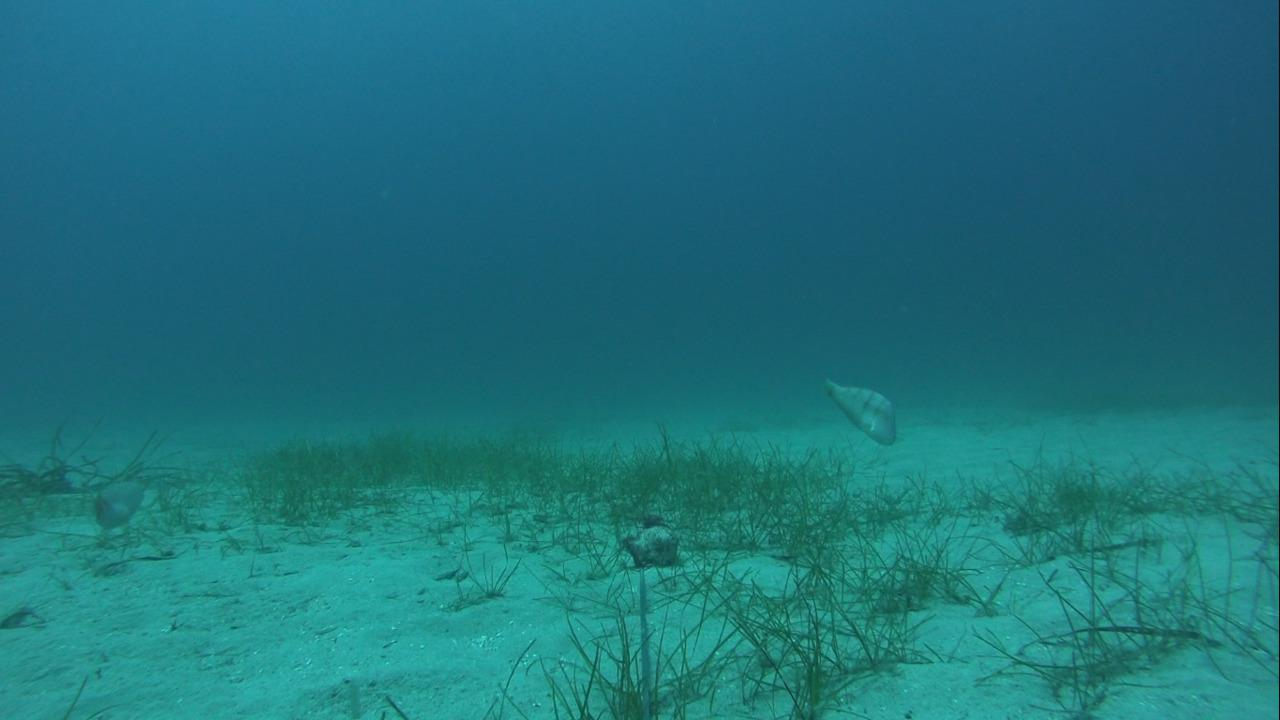raor: (815, 372, 903, 451), (82, 471, 155, 533)
